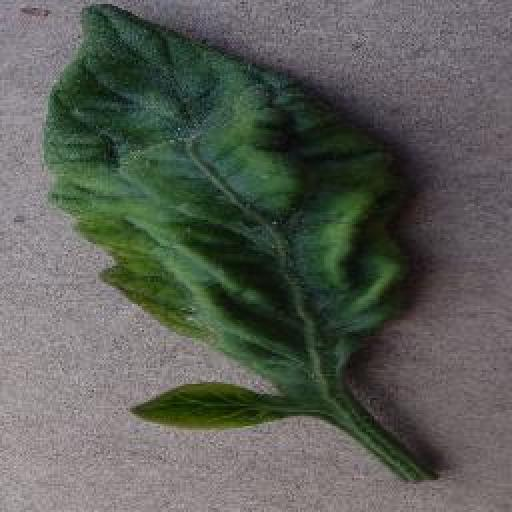Yellow Leaf Curl Virus: (43, 0, 417, 380), (124, 376, 287, 432)
